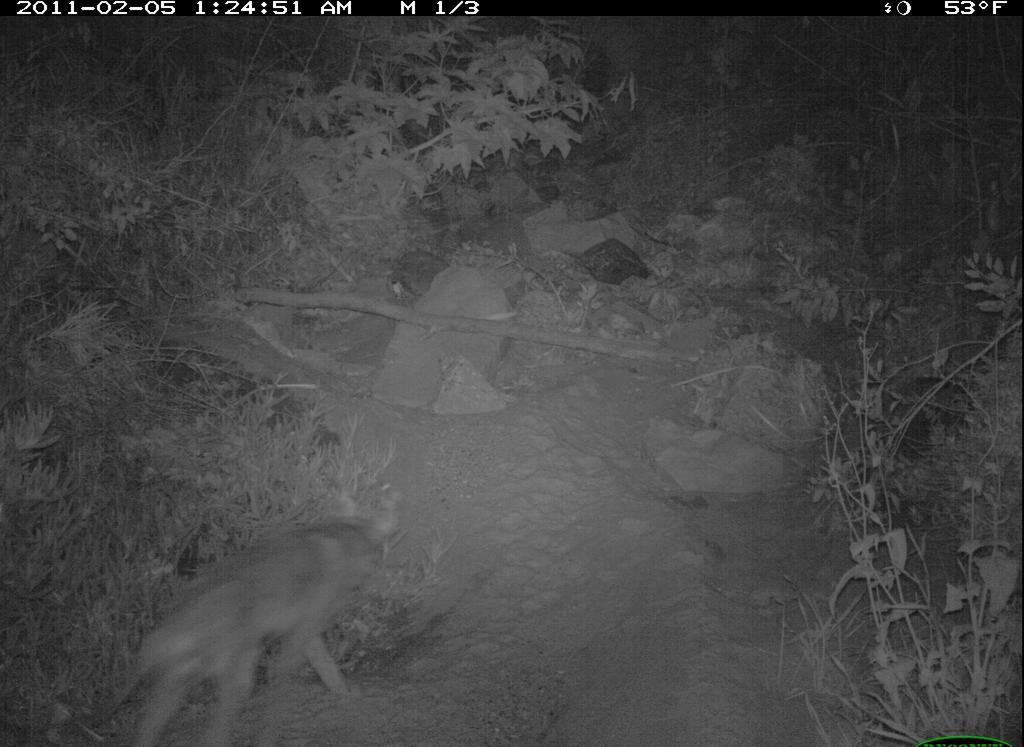coyote: (91, 496, 400, 747)
